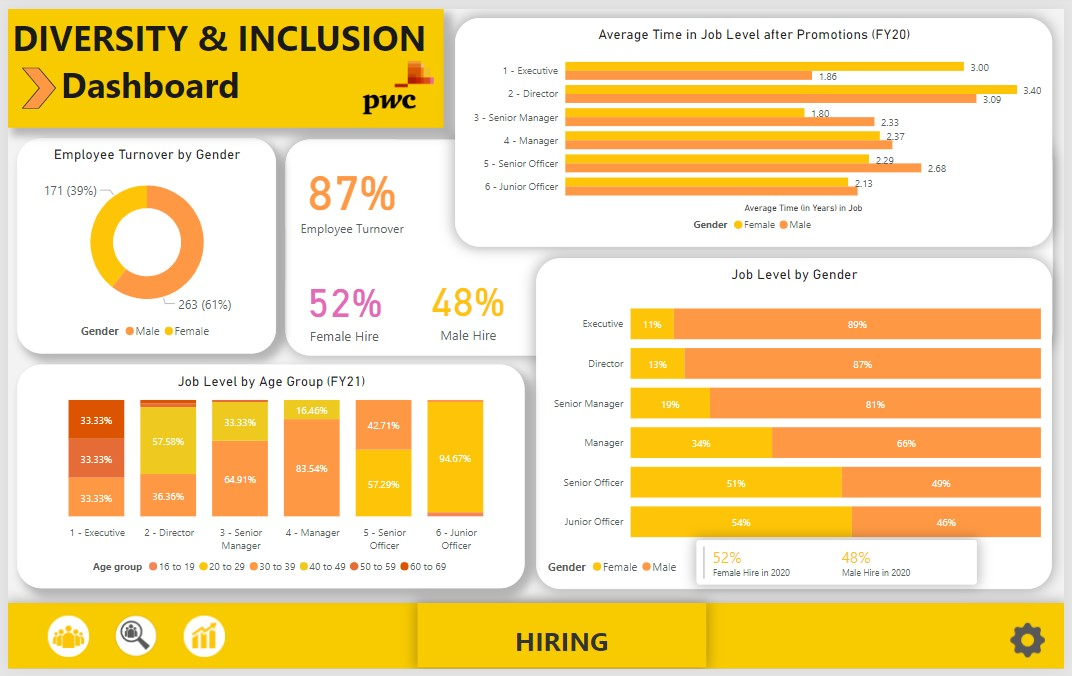

What the dashboard file says about the page in this screenshot:
{"tool":"powerbi","page":{"name":"Hiring","canvas":[1280,800],"ordinal":1},"visuals":[{"type":"shape","box":[336,158,930,262],"z":0},{"type":"card","fields":{"Values":["Backing 1.Percent Turnover"]},"box":[336.4,158.2,160,133.6],"z":500},{"type":"card","fields":{"Values":["Backing 1.Percent of Female Hire in 2020"]},"box":[336.7,301.1,141.1,116.7],"z":750},{"type":"card","fields":{"Values":["Backing 1.Percent of Male Hire in 2020"]},"box":[487.8,302.2,140,115.6],"z":875},{"type":"donutChart","title":"Employee Turnover by Gender","fields":{"Category":["Pharma Group AG.Gender"],"Y":["Pharma Group AG.Total Turnover 2020"]},"box":[10,157,314,261],"z":1000},{"type":"textbox","box":[0,720,1280,79.2],"z":3000},{"type":"textbox","box":[0,0,528,144],"z":5000},{"type":"image","box":[404,20,138,150],"z":7000},{"type":"hundredPercentStackedBarChart","title":"Job Level by Gender","fields":{"Category":["Position.GRADE"],"Y":["CountNonNull(Pharma Group AG.Gender)"],"Series":["Pharma Group AG.Gender"]},"box":[640,301.5,625.4,401.5],"z":8000},{"type":"multiRowCard","fields":{"Values":["Pharma Group AG.Female Hire in 2020","Pharma Group AG.Male Hire in 2020"]},"box":[835.4,643.8,340,53.8],"z":9000},{"type":"hundredPercentStackedColumnChart","title":"Job Level by Age Group (FY21)","fields":{"Category":["Pharma Group AG.Job Level after FY21 promotions"],"Y":["CountNonNull(Pharma Group AG.Age group)"],"Series":["Pharma Group AG.Age group"]},"box":[10,431.5,615.4,271.5],"z":10000},{"type":"shape","box":[16.7,70,42.2,50],"z":11000},{"type":"clusteredBarChart","title":"Average Time in Job Level after Promotions (FY20)","fields":{"Series":["Pharma Group AG.Gender"],"Y":["Avg(Pharma Group AG.Time in Job Level @01.07.2020)"],"Category":["Pharma Group AG.Job Level after FY20 promotions"]},"box":[542.5,10,723.8,277.5],"z":12000},{"type":"actionButton","box":[112.5,720,83.8,80],"z":13000},{"type":"actionButton","box":[30,720,84,80],"z":14000},{"type":"actionButton","box":[196.2,720,83.8,80],"z":15000},{"type":"actionButton","box":[1211.4,740.7,50,50],"z":16000},{"type":"textbox","box":[496,720,350,78],"z":16500}]}

Visuals, with their boxes in screenshot pixels (x1, y1, x2, y2), scaled from the page's 1280x800 canvas onto the 1072x676 screenshot:
shape: 281:134:1060:355
card - Backing 1.Percent Turnover: 282:134:416:247
card - Backing 1.Percent of Female Hire in 2020: 282:254:400:353
card - Backing 1.Percent of Male Hire in 2020: 409:255:526:353
"Employee Turnover by Gender" donutChart: 8:133:271:353
textbox: 0:608:1071:675
textbox: 0:0:442:122
image: 338:17:454:144
"Job Level by Gender" hundredPercentStackedBarChart: 536:255:1060:594
multiRowCard - Pharma Group AG.Female Hire in 2020 x Pharma Group AG.Male Hire in 2020: 700:544:984:589
"Job Level by Age Group (FY21)" hundredPercentStackedColumnChart: 8:365:524:594
shape: 14:59:49:101
"Average Time in Job Level after Promotions (FY20)" clusteredBarChart: 454:8:1061:243
actionButton: 94:608:164:675
actionButton: 25:608:95:675
actionButton: 164:608:234:675
actionButton: 1015:626:1056:668
textbox: 415:608:709:674
